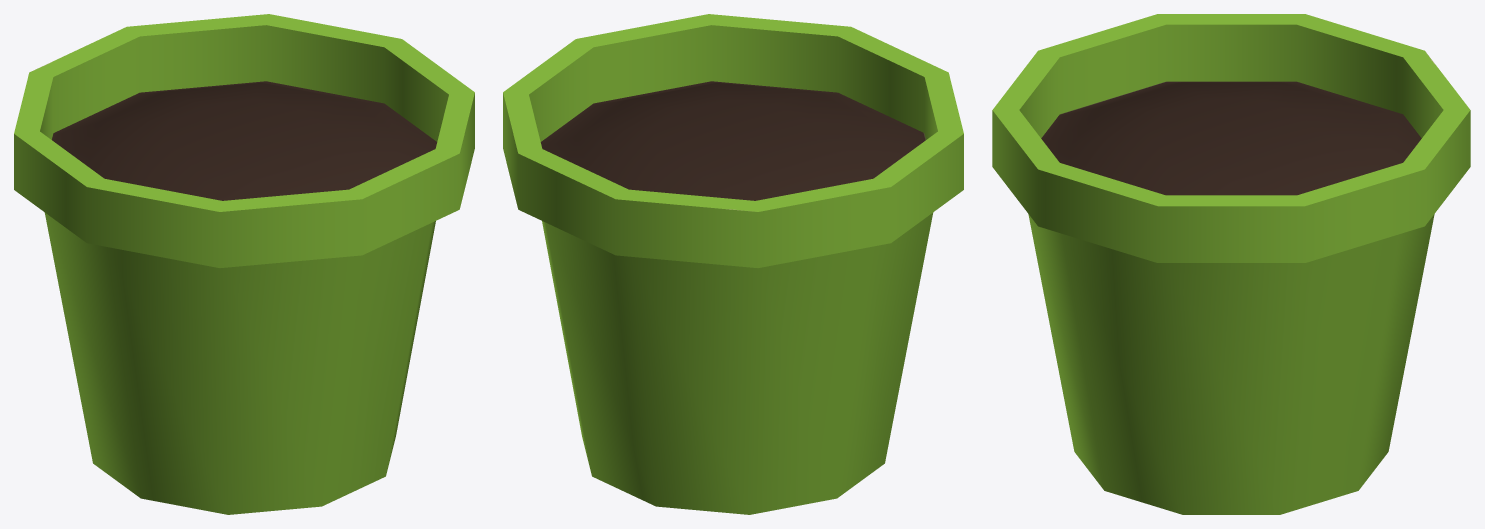
The model's file is furniture_garden_210044.glb.
The picture shows the model from 3 angles, left to right: view 1: azimuth 30°, elevation 25°; view 2: azimuth 150°, elevation 25°; view 3: azimuth 270°, elevation 25°; orthographic projection.
Parts seen in each view (by area): view 1: furniture_garden_210044; view 2: furniture_garden_210044; view 3: furniture_garden_210044.
Boxes of the visible parts, x1,y1,x2,y2 form: furniture_garden_210044: (14, 14, 474, 514); furniture_garden_210044: (503, 14, 963, 514); furniture_garden_210044: (992, 14, 1470, 514).
Bounding box in the file's own units: 0.4341 × 0.36 × 0.4564.
Materials: 1 (1 with a texture image).
